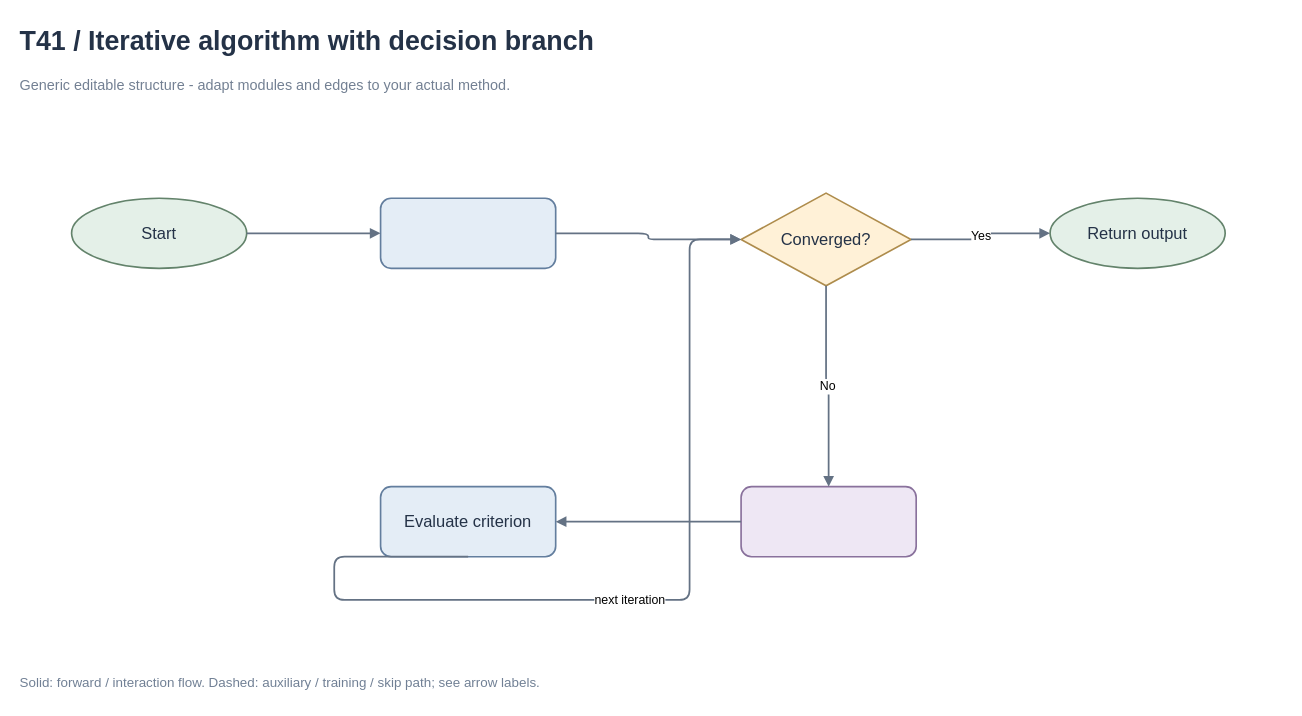
The diagram is 1302 pixels wide and 716 high, and some of its shapes have lost their labels. Each missing label, with the box of its shape:
Initialize state: (379, 197, 556, 269)
Update / refine: (740, 485, 916, 557)
